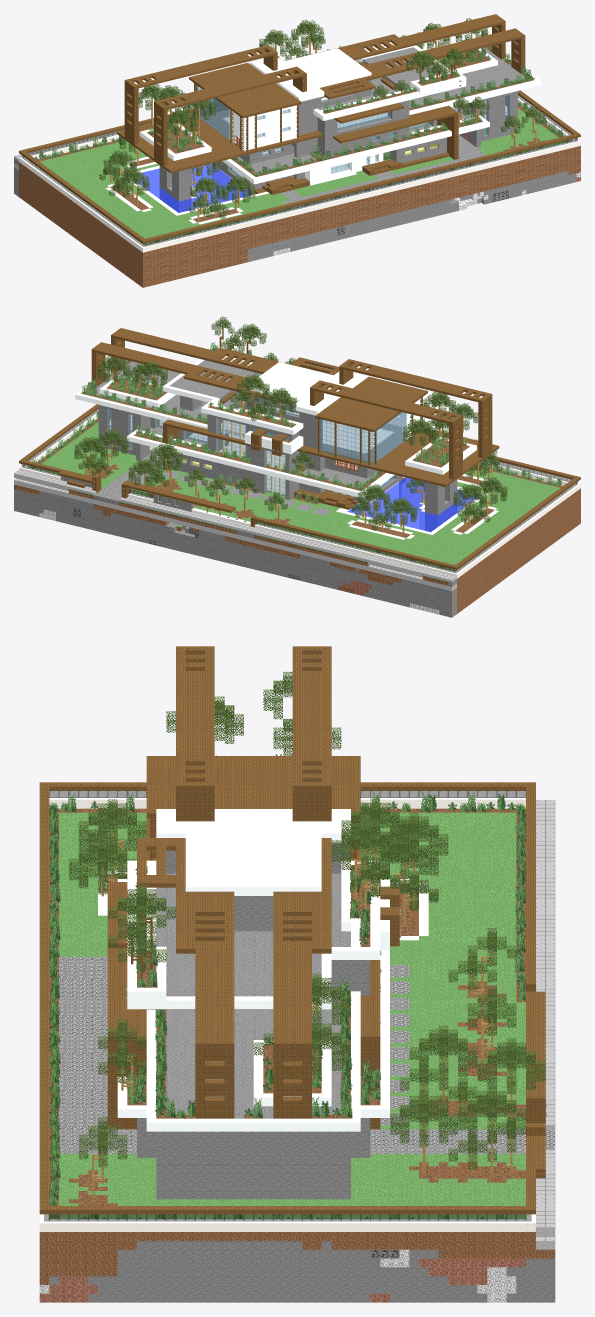
3 views of the same model, one above another, from view 1: azimuth 30°, elevation 25°; view 2: azimuth 150°, elevation 25°; view 3: azimuth 270°, elevation 25° (orthographic). The views are drawn at different scales.
Visible parts, largest first — view 1: Object_17, Object_7, Object_26, Object_21, Object_15, Object_11, Object_4, Object_16, Object_29, Object_24, Object_20, Object_25 (+4 smaller); view 2: Object_26, Object_17, Object_21, Object_15, Object_11, Object_7, Object_16, Object_23, Object_4, Object_29, Object_28, Object_9 (+7 smaller); view 3: Object_17, Object_26, Object_11, Object_15, Object_21, Object_7, Object_6, Object_16, Object_29, Object_4, Object_28, Object_24 (+2 smaller).
Boxes of the visible parts, x1=… form: Object_17: x1=19, y1=14, x2=580, y2=243; Object_7: x1=19, y1=46, x2=580, y2=287; Object_26: x1=14, y1=47, x2=580, y2=261; Object_21: x1=105, y1=45, x2=541, y2=224; Object_15: x1=99, y1=18, x2=545, y2=219; Object_11: x1=39, y1=108, x2=564, y2=244; Object_4: x1=19, y1=95, x2=580, y2=252; Object_16: x1=124, y1=23, x2=525, y2=194; Object_29: x1=39, y1=46, x2=568, y2=242; Object_24: x1=21, y1=95, x2=577, y2=246; Object_20: x1=30, y1=47, x2=570, y2=244; Object_25: x1=131, y1=163, x2=252, y2=212; Object_26: x1=14, y1=360, x2=457, y2=617; Object_17: x1=19, y1=328, x2=580, y2=569; Object_21: x1=75, y1=346, x2=498, y2=539; Object_15: x1=74, y1=316, x2=507, y2=530; Object_11: x1=35, y1=422, x2=559, y2=585; Object_7: x1=14, y1=348, x2=580, y2=613; Object_16: x1=91, y1=337, x2=492, y2=527; Object_23: x1=157, y1=412, x2=406, y2=496; Object_4: x1=19, y1=409, x2=580, y2=578; Object_29: x1=32, y1=342, x2=565, y2=568; Object_28: x1=14, y1=470, x2=456, y2=582; Object_9: x1=14, y1=478, x2=456, y2=591; Object_17: x1=39, y1=650, x2=545, y2=1214; Object_26: x1=39, y1=842, x2=555, y2=1302; Object_11: x1=59, y1=812, x2=525, y2=1219; Object_15: x1=69, y1=671, x2=545, y2=1169; Object_21: x1=98, y1=809, x2=428, y2=1131; Object_7: x1=39, y1=808, x2=555, y2=1284; Object_6: x1=59, y1=956, x2=555, y2=1153; Object_16: x1=107, y1=646, x2=545, y2=1135; Object_29: x1=49, y1=754, x2=525, y2=1219; Object_4: x1=39, y1=795, x2=535, y2=1231; Object_28: x1=536, y1=800, x2=555, y2=1236; Object_24: x1=44, y1=791, x2=531, y2=1221.
Bounding box in the file's own units: 3.15 × 1 × 1.61.
28 materials, 28 textured.
